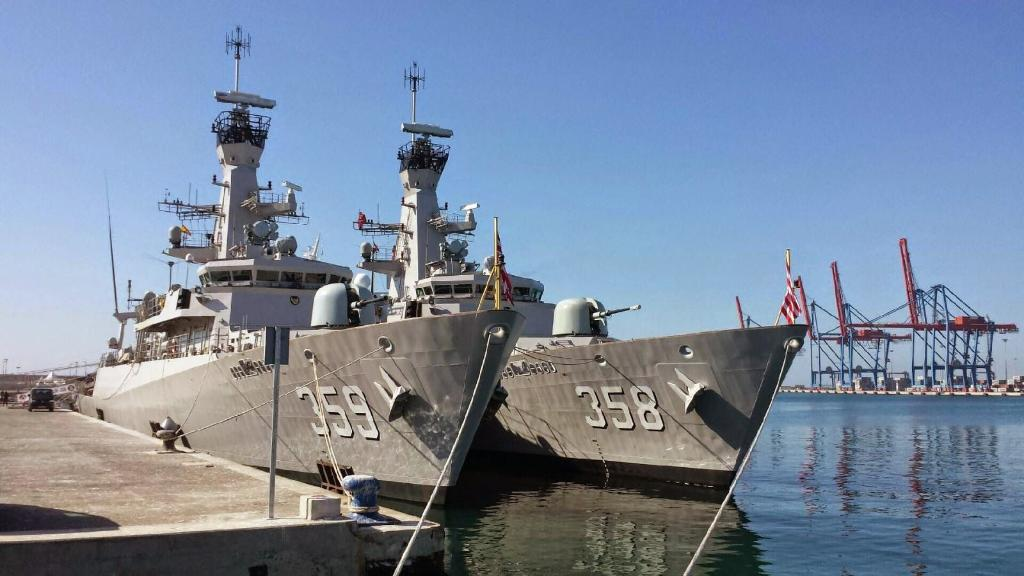Warship: (71, 24, 525, 508), (354, 60, 810, 496)
